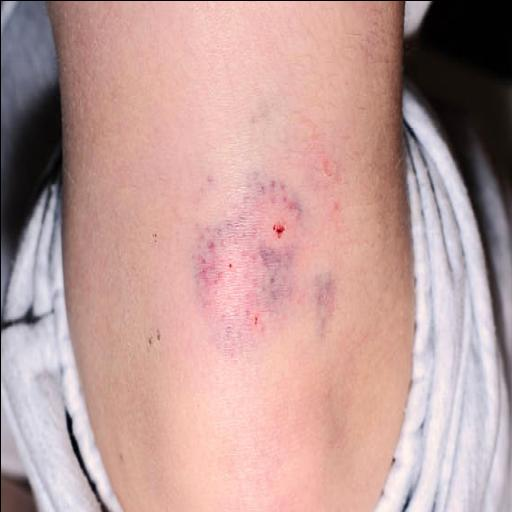bruises: (173, 224, 279, 266)
